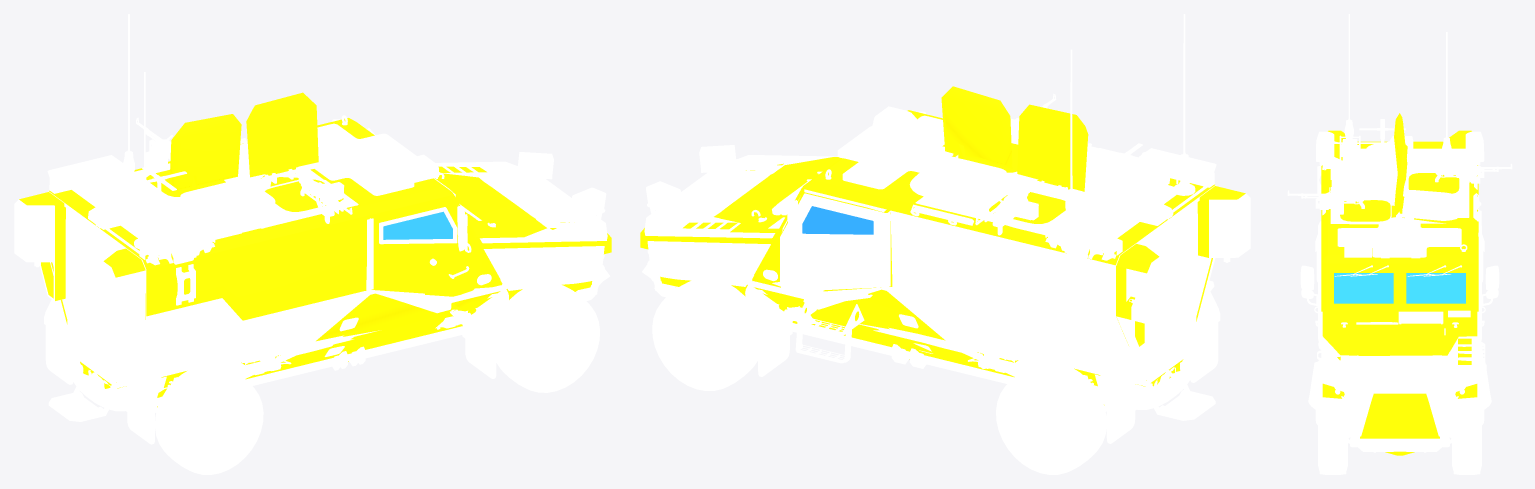
File: LPPV.gltf
The picture shows the model from 3 angles, left to right: view 1: azimuth 30°, elevation 25°; view 2: azimuth 150°, elevation 25°; view 3: azimuth 270°, elevation 25°; orthographic projection. The views are drawn at different scales.
Visible parts, largest first — view 1: 22, LPPV_Col, 22_4, LPPV_Tophatch_Col2, LPPV_Tophatch_Col_97, 22_3, LPPV_Col_1, 22_10; view 2: 22, LPPV_Col, 22_4, LPPV_Tophatch_Col_97, LPPV_Tophatch_Col2, 22_3, LPPV_Col_1, 22_5.001; view 3: 22, LPPV_Col, LPPV_Col_1, 22_4, LPPV_Tophatch_Col2, 22_7, 22_12, 22_3, LPPV_Tophatch_Col_97, 22_10, 22_5.001.
Part boxes in pixels (left/top/right/bottom): 22: left=14, top=14, right=609, bottom=444; LPPV_Col: left=19, top=118, right=611, bottom=407; 22_4: left=73, top=284, right=599, bottom=474; LPPV_Tophatch_Col2: left=246, top=92, right=318, bottom=178; LPPV_Tophatch_Col_97: left=169, top=114, right=241, bottom=191; 22_3: left=50, top=227, right=598, bottom=418; LPPV_Col_1: left=383, top=211, right=452, bottom=239; 22_10: left=303, top=183, right=341, bottom=223; 22: left=642, top=14, right=1250, bottom=443; LPPV_Col: left=640, top=110, right=1245, bottom=405; 22_4: left=652, top=280, right=1190, bottom=474; LPPV_Tophatch_Col_97: left=1017, top=104, right=1088, bottom=191; LPPV_Tophatch_Col2: left=941, top=86, right=1012, bottom=168; 22_3: left=653, top=158, right=1213, bottom=417; LPPV_Col_1: left=802, top=206, right=873, bottom=234; 22_5.001: left=992, top=197, right=1030, bottom=235; 22: left=1300, top=14, right=1499, bottom=452; LPPV_Col: left=1321, top=130, right=1478, bottom=455; LPPV_Col_1: left=1334, top=273, right=1465, bottom=303; 22_4: left=1318, top=266, right=1481, bottom=474; LPPV_Tophatch_Col2: left=1394, top=142, right=1407, bottom=215; 22_7: left=1433, top=163, right=1512, bottom=182; 22_12: left=1287, top=187, right=1366, bottom=208; 22_3: left=1328, top=357, right=1438, bottom=441; LPPV_Tophatch_Col_97: left=1394, top=113, right=1407, bottom=185; 22_10: left=1315, top=195, right=1355, bottom=215; 22_5.001: left=1444, top=161, right=1484, bottom=189.
Bounding box in the file's own units: 5.44 × 4.02 × 2.83.
